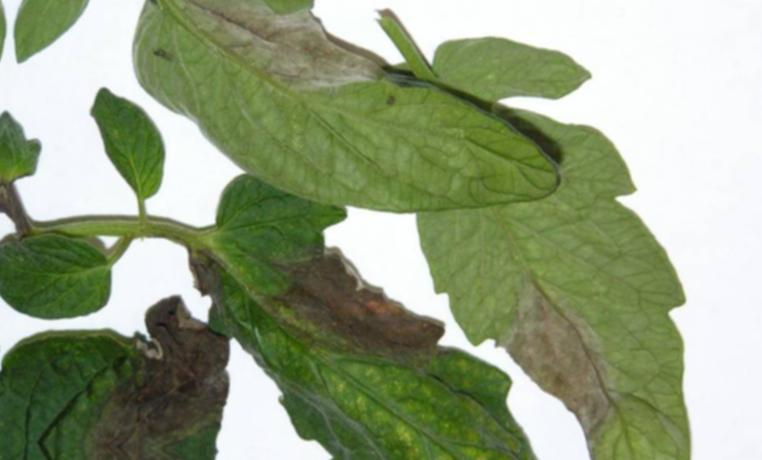Tomato leaf late blight: (365, 39, 726, 460), (186, 182, 574, 460), (101, 0, 564, 231)
